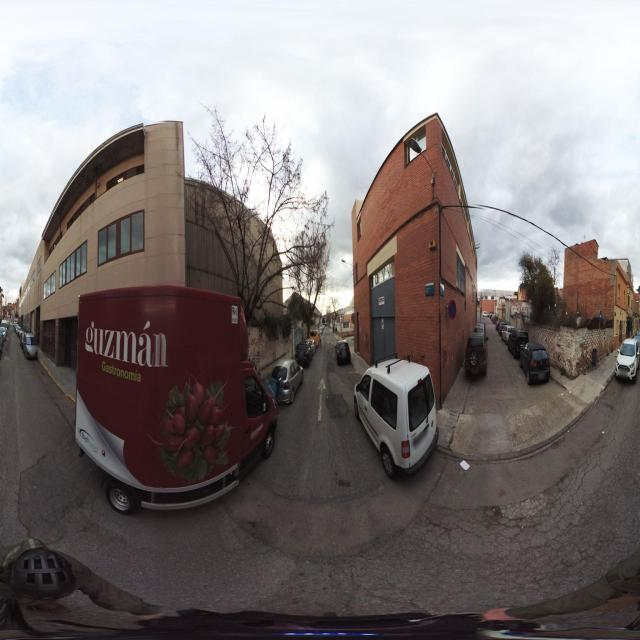forb_stopping: (447, 299, 456, 320)
